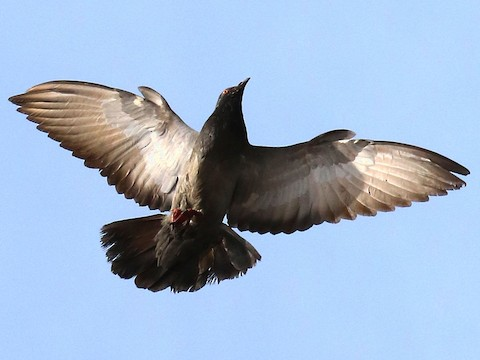pigeon: (7, 71, 468, 297)
